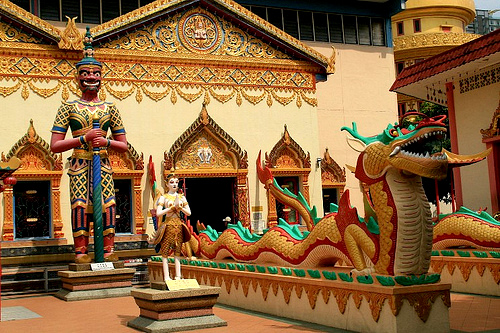Buddhist Temple: (39, 38, 133, 261)
